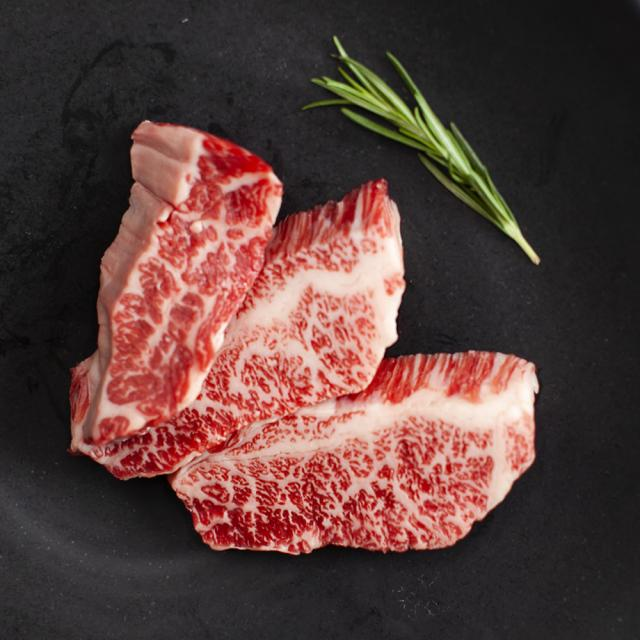beef: (200, 306, 378, 536)
